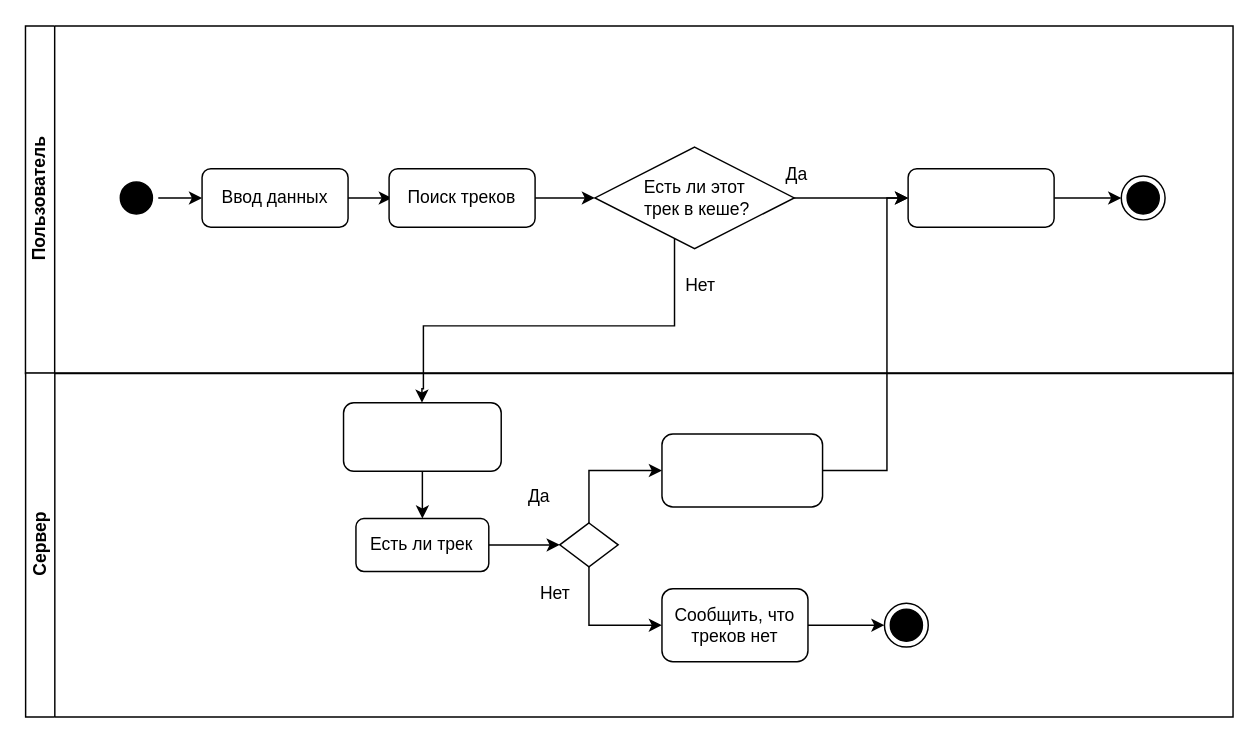
The diagram is 1260 pixels wide and 743 high, and some of its shapes have lost their labels. Here are the shapes that lost their labels. From the top down, the centre of each, then its label:
At point (980, 197): "Получить трек".
At point (421, 436): "Вызов метода для поиска трека".
At point (742, 470): "Отправить трек".
